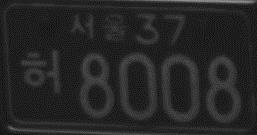0: (159, 54, 201, 123), (118, 53, 159, 122)
3: (133, 11, 159, 45)
7: (162, 13, 188, 45)
8: (77, 52, 117, 118), (205, 55, 242, 124)
서울_O: (70, 12, 127, 42)
허: (21, 50, 63, 95)
